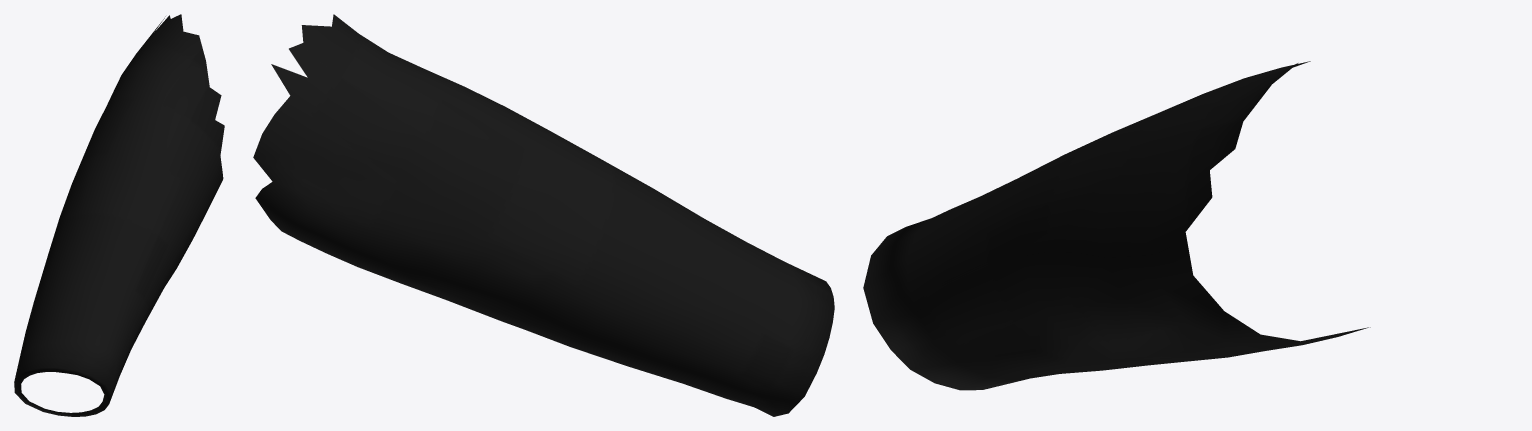
Rendered from sleeve.glb.
The picture shows the model from 3 angles, left to right: view 1: azimuth 30°, elevation 25°; view 2: azimuth 150°, elevation 25°; view 3: azimuth 270°, elevation 25°; orthographic projection. The views are drawn at different scales.
Visible parts, largest first — view 1: CBBE.005_CBBE.009_CBBE.005_CBBE.009; view 2: CBBE.005_CBBE.009_CBBE.005_CBBE.009; view 3: CBBE.005_CBBE.009_CBBE.005_CBBE.009.
Boxes of the visible parts, x1,y1,x2,y2 form: CBBE.005_CBBE.009_CBBE.005_CBBE.009: [14, 14, 224, 416]; CBBE.005_CBBE.009_CBBE.005_CBBE.009: [253, 14, 834, 416]; CBBE.005_CBBE.009_CBBE.005_CBBE.009: [863, 61, 1370, 390].
Bounding box in the file's own units: 0.00223 × 0.00226 × 0.00241.
1 material, 1 textured.
